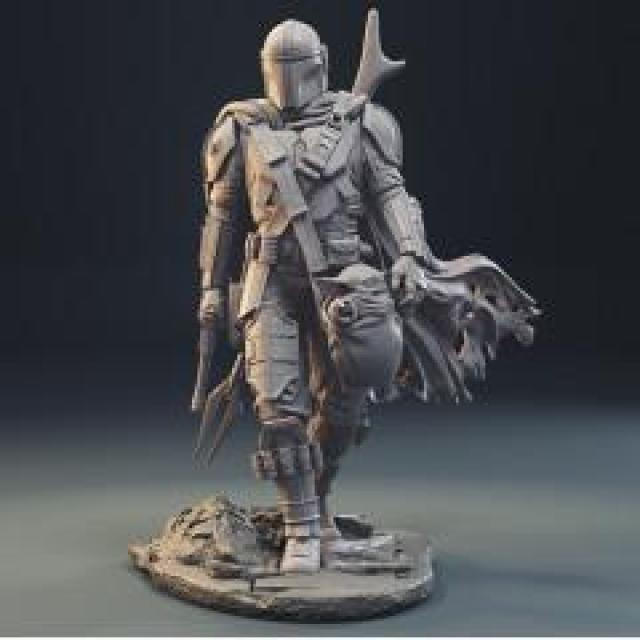Without deffect: (118, 9, 548, 628)
